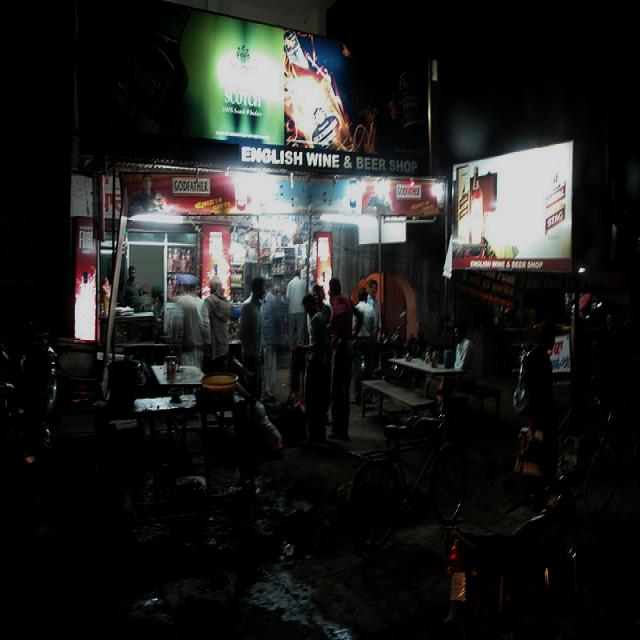Motorbike: (439, 462, 607, 640)
